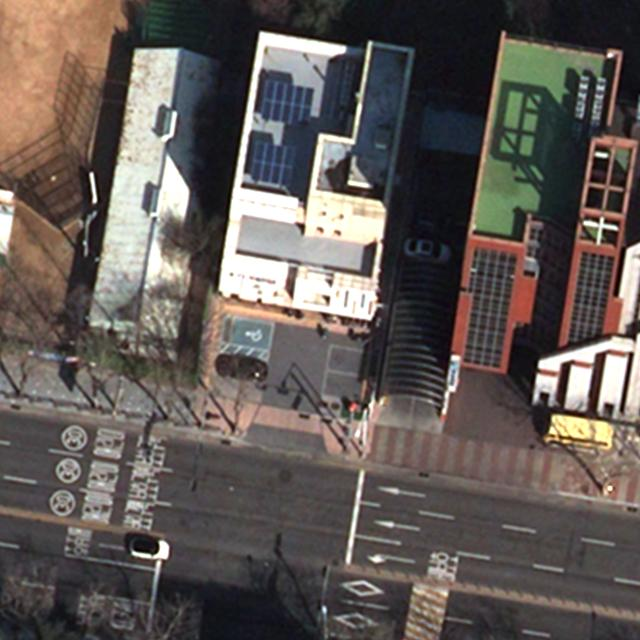solarpanel: (257, 76, 315, 124), (249, 137, 299, 188)
